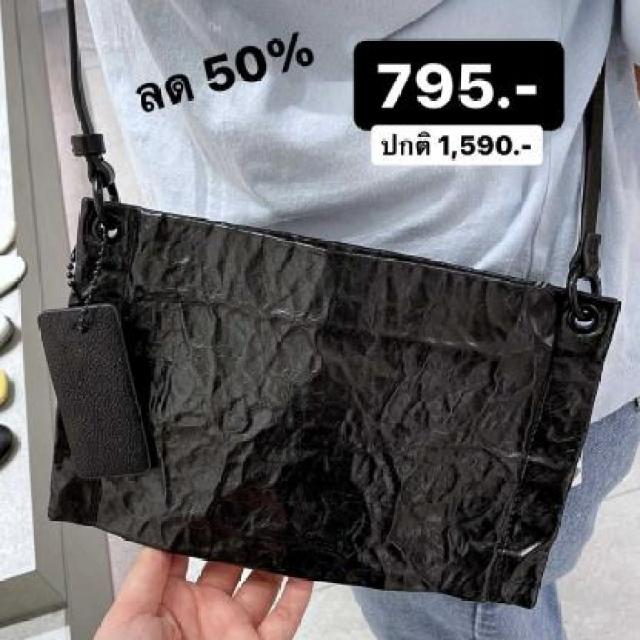Bag: (23, 106, 640, 626)
